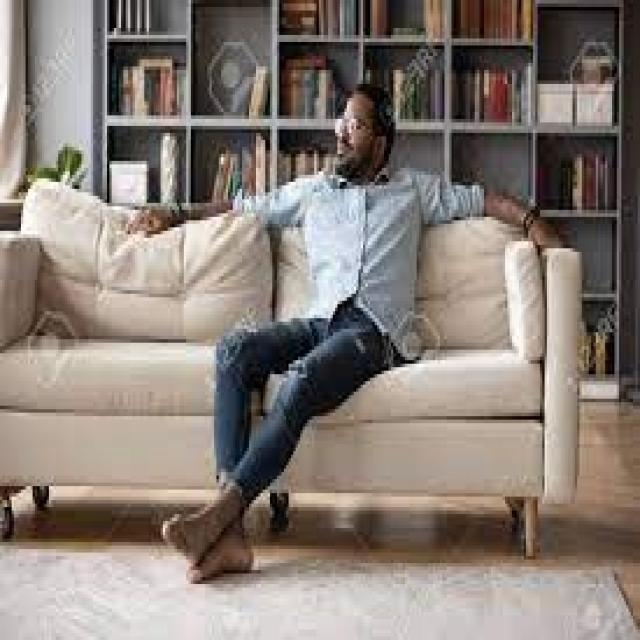sitting: (132, 86, 544, 586)
